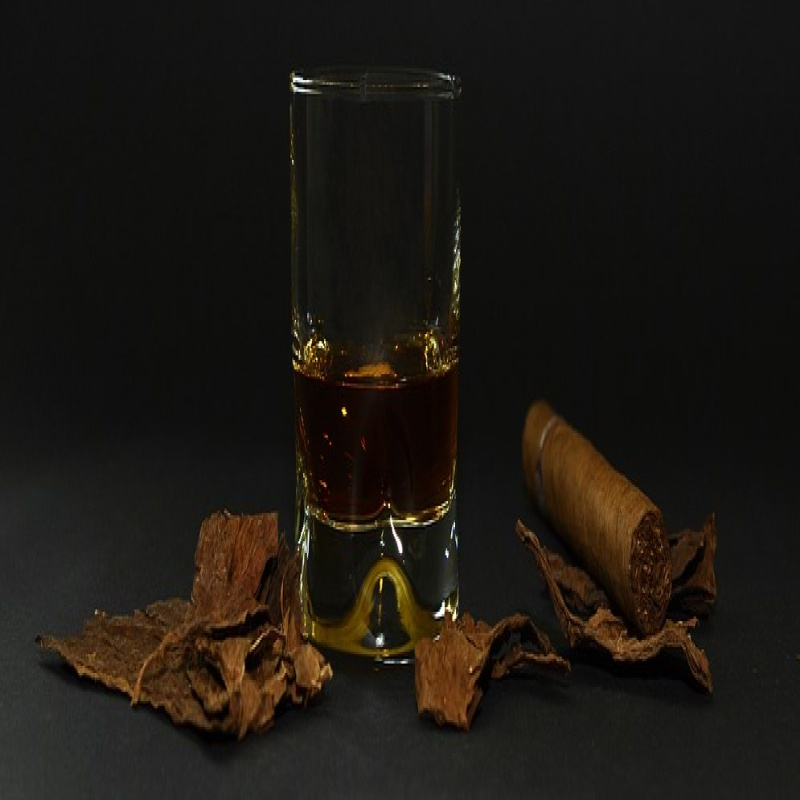whiskey: (295, 69, 466, 655)
